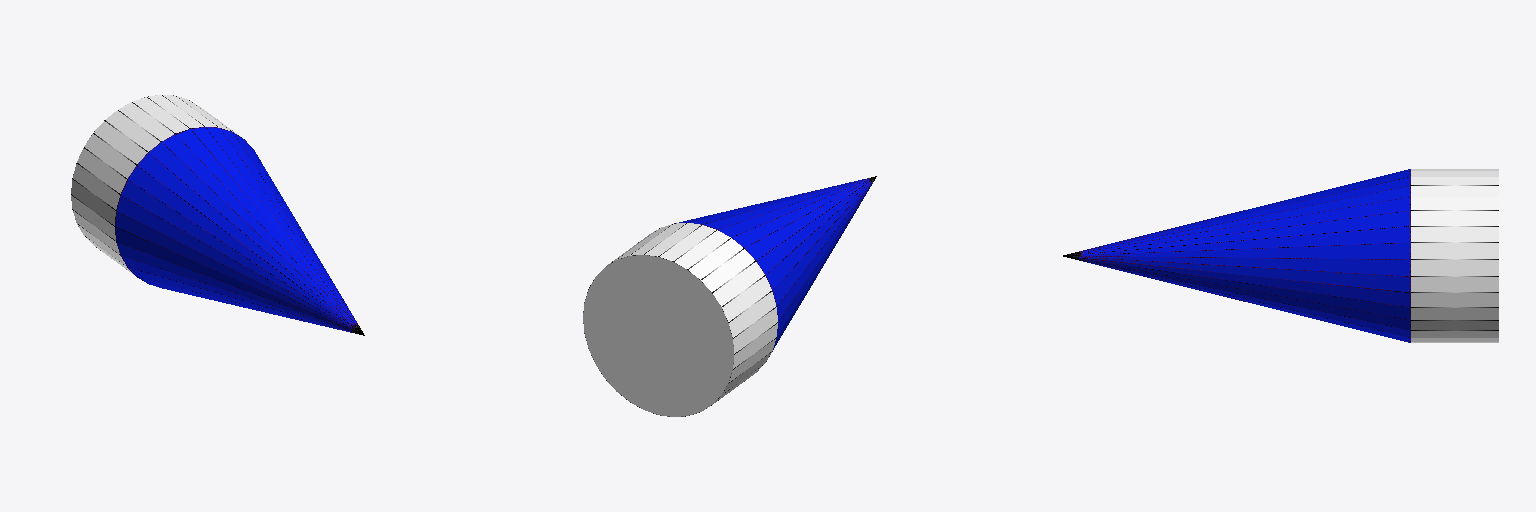
The picture shows the model from 3 angles: view 1: azimuth 30°, elevation 25°; view 2: azimuth 150°, elevation 25°; view 3: azimuth 270°, elevation 25°; orthographic projection.
Visible parts, largest first — view 1: 円柱_円柱.001; view 2: 円柱_円柱.001; view 3: 円柱_円柱.001.
Boxes of the visible parts, x1,y1,x2,y2 form: 円柱_円柱.001: [71, 95, 364, 335]; 円柱_円柱.001: [583, 176, 876, 416]; 円柱_円柱.001: [1063, 169, 1498, 342].
Size of the model in its own units: 2 by 2 by 5.
Materials: 1 (1 with a texture image).